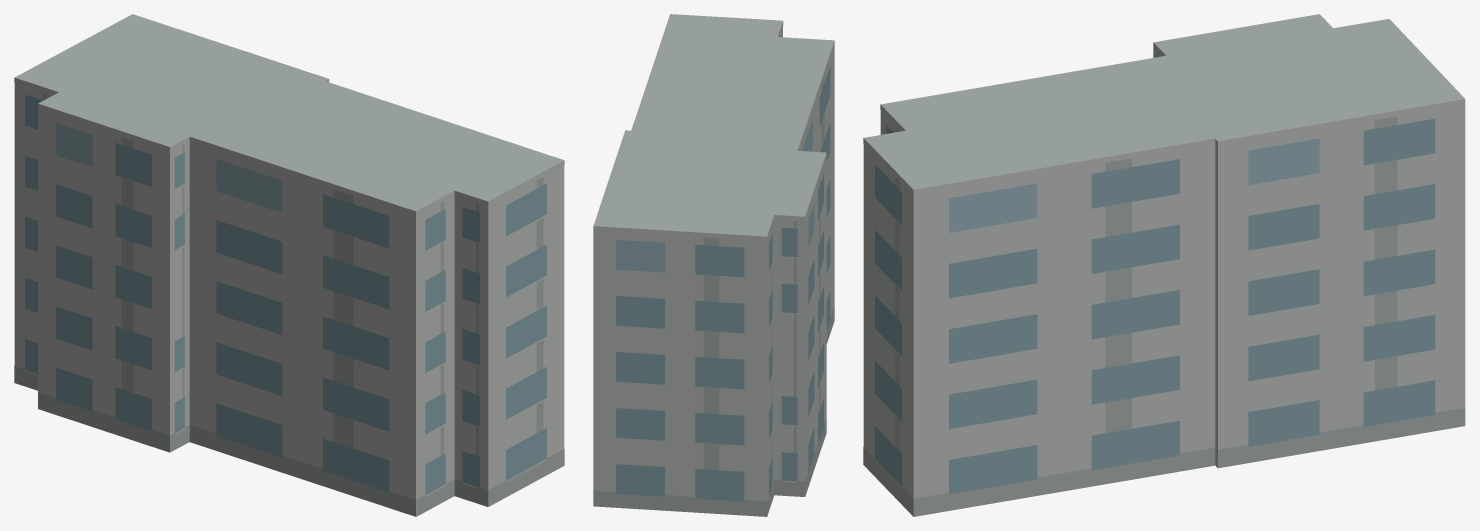
The model's file is survey-upis-32699792.glb.
The picture shows the model from 3 angles, left to right: view 1: azimuth 30°, elevation 25°; view 2: azimuth 150°, elevation 25°; view 3: azimuth 270°, elevation 25°; orthographic projection. The views are drawn at different scales.
Parts seen in each view (by area): view 1: survey-upis-32699792.tmp; view 2: survey-upis-32699792.tmp; view 3: survey-upis-32699792.tmp.
Part boxes in pixels (x1,y1,x2,y2): survey-upis-32699792.tmp: [14, 14, 564, 516]; survey-upis-32699792.tmp: [593, 14, 834, 516]; survey-upis-32699792.tmp: [863, 14, 1465, 516].
Size of the model in its own units: 16.39 by 14.2 by 23.7.
